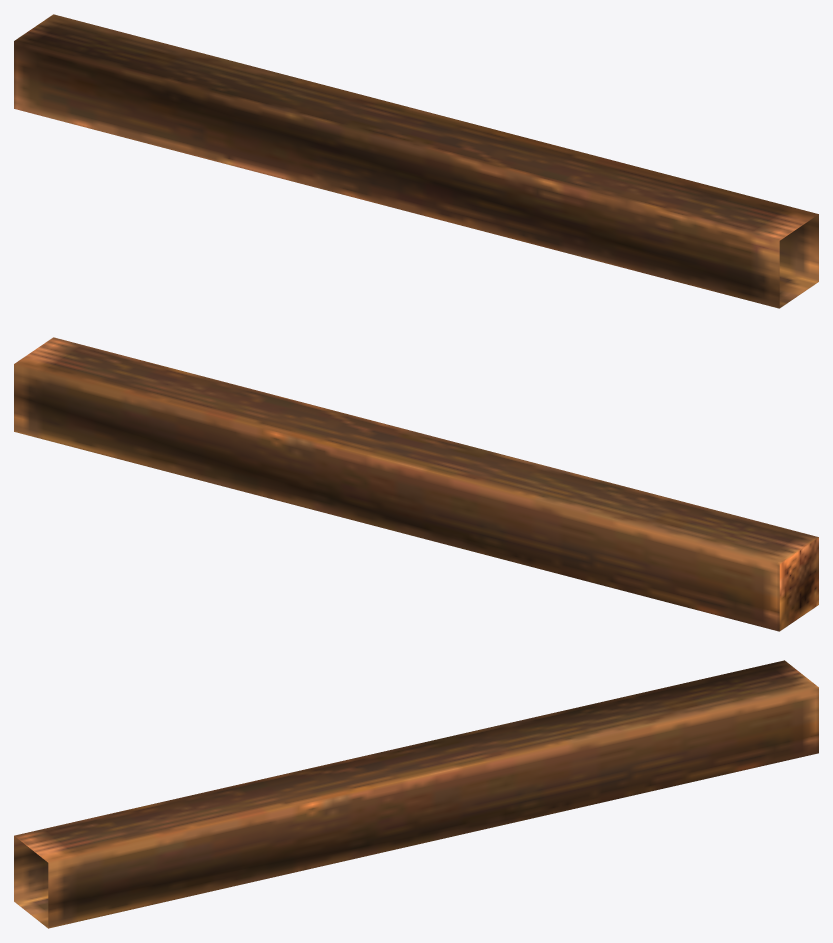
File: SWORDLIGHT20_JAILBRACE06.fbx
3 renders of one model, top to bottom at view 1: azimuth 30°, elevation 25°; view 2: azimuth 210°, elevation 25°; view 3: azimuth 270°, elevation 25°, orthographic. The views are drawn at different scales.
Visible parts, largest first — view 1: SWORDLIGHT20_JAILBRACE06; view 2: SWORDLIGHT20_JAILBRACE06; view 3: SWORDLIGHT20_JAILBRACE06.
Part boxes in pixels (x1=…): SWORDLIGHT20_JAILBRACE06: x1=14, y1=14, x2=818, y2=308; SWORDLIGHT20_JAILBRACE06: x1=14, y1=337, x2=818, y2=631; SWORDLIGHT20_JAILBRACE06: x1=14, y1=660, x2=818, y2=928.
Size of the model in its own units: 26363 by 4000 by 44308.
1 material, 1 textured.
